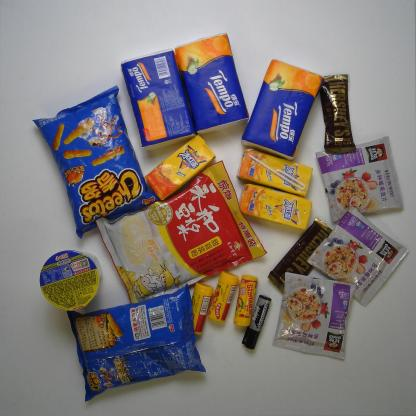Candy: (204, 263, 248, 331), (176, 282, 213, 340), (229, 275, 263, 327)
Chocolate: (262, 210, 342, 301), (307, 63, 366, 163)
Drink: (138, 127, 237, 203), (231, 182, 320, 239), (231, 139, 314, 193)
Instant Drink: (83, 157, 275, 306), (306, 204, 414, 311), (261, 270, 365, 365), (311, 127, 408, 227)
Instant Noodles: (29, 230, 109, 319)
Puffed Food: (15, 79, 162, 239), (46, 278, 225, 406)
Stationery: (241, 294, 279, 359)
Tissue: (240, 38, 324, 165), (174, 20, 255, 136), (116, 36, 197, 149)
